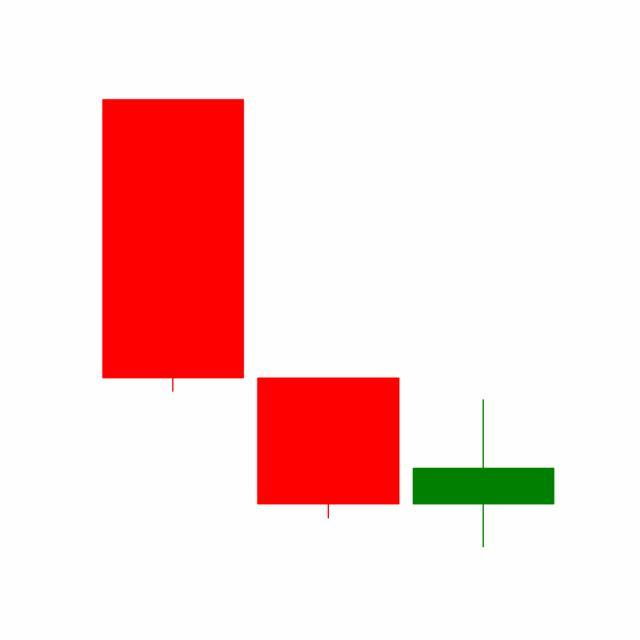Spinning Top: (406, 398, 562, 550)
